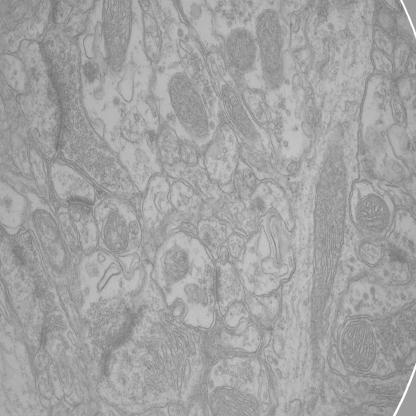mitochondria: (306, 150, 350, 376), (167, 71, 211, 142), (252, 7, 287, 93), (100, 0, 134, 77), (219, 82, 259, 146), (341, 318, 379, 374), (354, 192, 392, 236), (101, 209, 131, 262), (160, 242, 192, 291), (225, 29, 256, 76)
